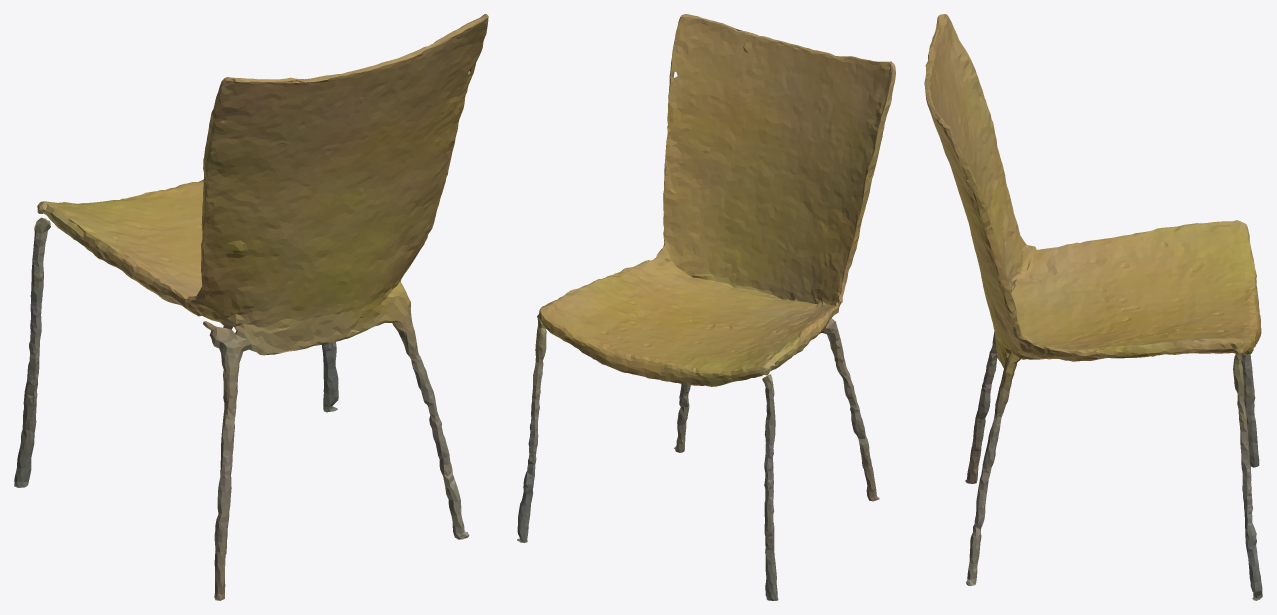
The picture shows the model from 3 angles, left to right: view 1: azimuth 30°, elevation 25°; view 2: azimuth 150°, elevation 25°; view 3: azimuth 270°, elevation 25°; orthographic projection. The views are drawn at different scales.
Parts seen in each view (by area): view 1: defaultobject; view 2: defaultobject; view 3: defaultobject.
Part boxes in pixels (bbox=[...]): defaultobject: bbox=[14, 14, 488, 600]; defaultobject: bbox=[517, 14, 895, 600]; defaultobject: bbox=[924, 14, 1262, 600].
Bounding box in the file's own units: 0.5093 × 0.8001 × 0.5273.
